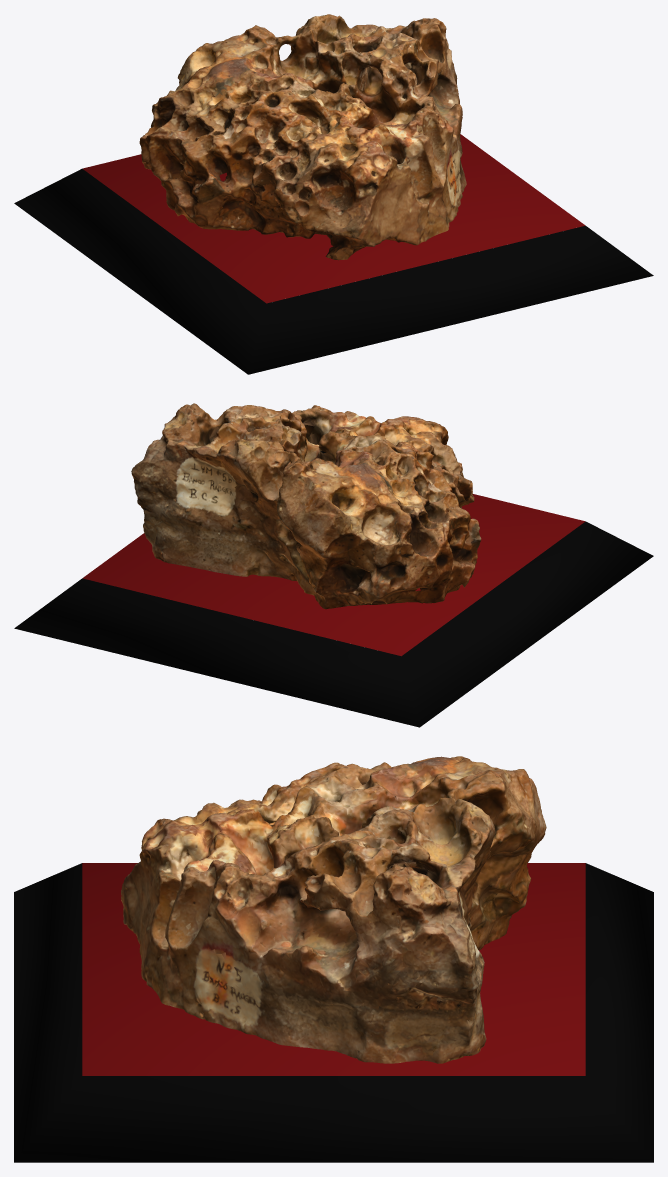
File: ConglomeradoBCS.glb
The picture shows the model from 3 angles, top to bottom: view 1: azimuth 30°, elevation 25°; view 2: azimuth 150°, elevation 25°; view 3: azimuth 270°, elevation 25°; orthographic projection. The views are drawn at different scales.
Parts seen in each view (by area): view 1: texturedMesh; view 2: texturedMesh; view 3: texturedMesh.
Boxes of the visible parts, bbox=[...] form: texturedMesh: bbox=[14, 14, 653, 374]; texturedMesh: bbox=[14, 403, 653, 727]; texturedMesh: bbox=[14, 756, 653, 1162].
Bounding box in the file's own units: 10 × 4.23 × 10.
5 materials, 3 textured.
